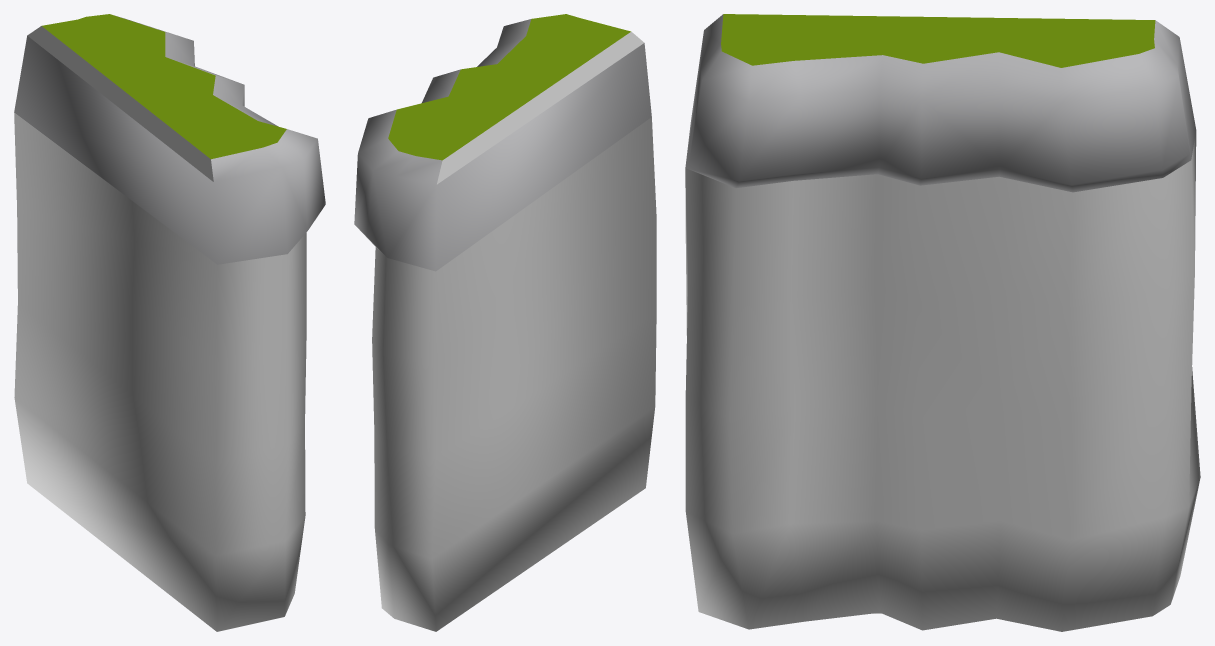
Rendered from SmoothShadedIsland2.fbx.
The picture shows the model from 3 angles, left to right: view 1: azimuth 30°, elevation 25°; view 2: azimuth 150°, elevation 25°; view 3: azimuth 270°, elevation 25°; orthographic projection. The views are drawn at different scales.
Parts seen in each view (by area): view 1: Plane.004; view 2: Plane.004; view 3: Plane.004.
Part boxes in pixels (<box>): Plane.004: <box>14,14,325,631</box>; Plane.004: <box>354,14,656,631</box>; Plane.004: <box>685,14,1200,631</box>.
Bounding box in the file's own units: 584 × 1933 × 1597.
